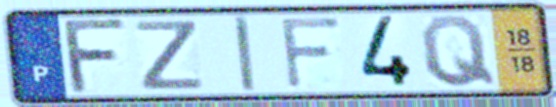4: (357, 13, 417, 91)
F: (62, 16, 132, 96), (277, 15, 344, 91)
I: (231, 13, 259, 95)
Q: (417, 13, 499, 90)
Z: (132, 18, 207, 92)
